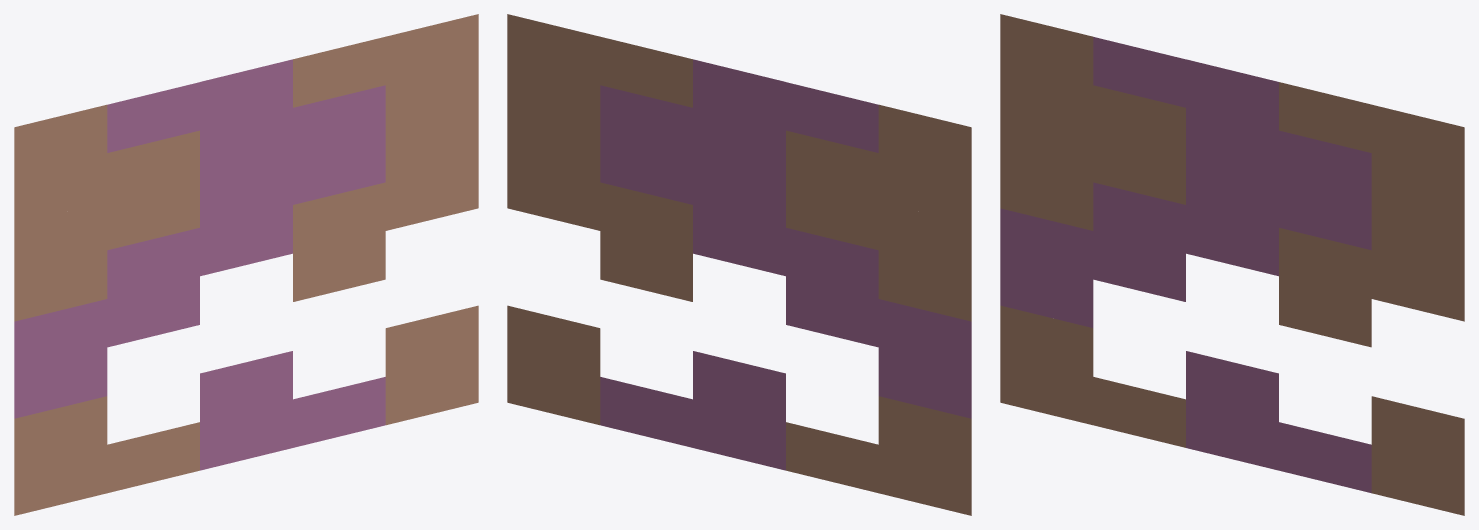
The model's file is file_digged_tilted_wide_digged.fbx.
3 views of the same model, side by side, from view 1: azimuth 30°, elevation 25°; view 2: azimuth 150°, elevation 25°; view 3: azimuth 330°, elevation 25° (orthographic).
Parts seen in each view (by area): view 1: file_digged_tilted_wide_digged1; view 2: file_digged_tilted_wide_digged1; view 3: file_digged_tilted_wide_digged1.
Boxes of the visible parts, x1,y1,x2,y2 form: file_digged_tilted_wide_digged1: (14,14,478,515); file_digged_tilted_wide_digged1: (507,14,971,515); file_digged_tilted_wide_digged1: (1000,14,1464,515).
Bounding box in the file's own units: 60 × 48 × 0.
